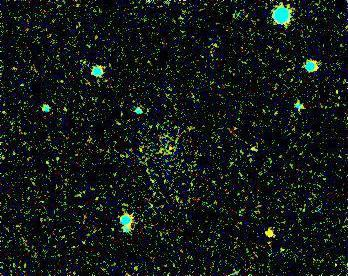star: (255, 219, 285, 249)
